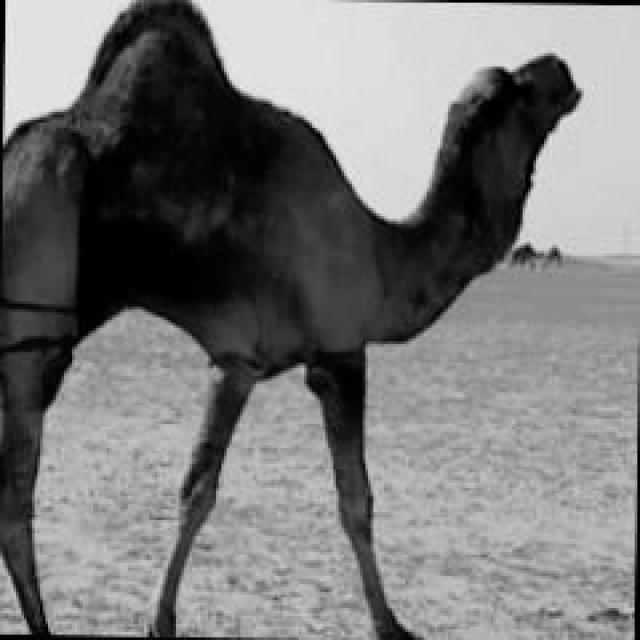Camel: (0, 0, 581, 637)
